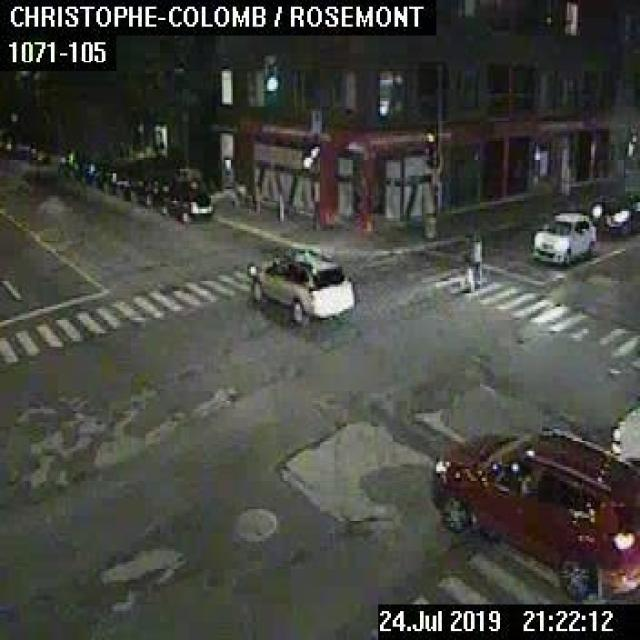pedestrian: (462, 224, 480, 289)
vehicle: (432, 424, 638, 599), (246, 248, 352, 324), (532, 213, 593, 263), (159, 182, 211, 222), (592, 195, 638, 234), (0, 120, 33, 158), (122, 179, 158, 205), (58, 151, 83, 176), (89, 169, 118, 190), (77, 160, 96, 180)
